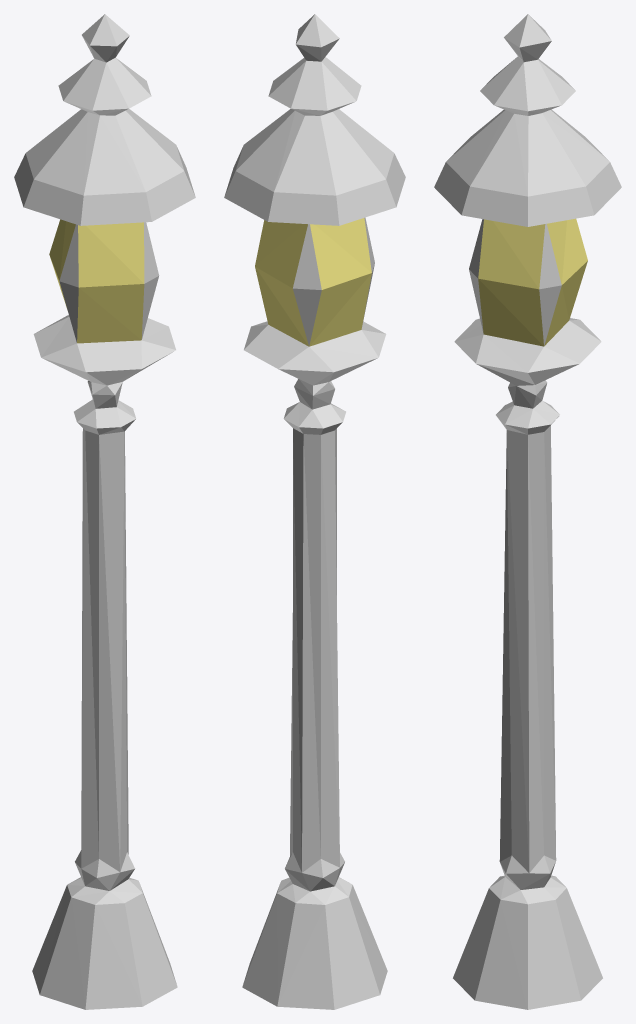
Rendered from Street lamp.fbx.
3 renders of one model, left to right at view 1: azimuth 30°, elevation 25°; view 2: azimuth 150°, elevation 25°; view 3: azimuth 270°, elevation 25°, orthographic.
Parts seen in each view (by area): view 1: Street lamp; view 2: Street lamp; view 3: Street lamp.
Boxes of the visible parts, box(x1,y1,x2,y2) form: Street lamp: box(14, 14, 195, 1009); Street lamp: box(224, 14, 405, 1009); Street lamp: box(434, 14, 621, 1009).
Size of the model in its own units: 58.5 by 331 by 58.5.
